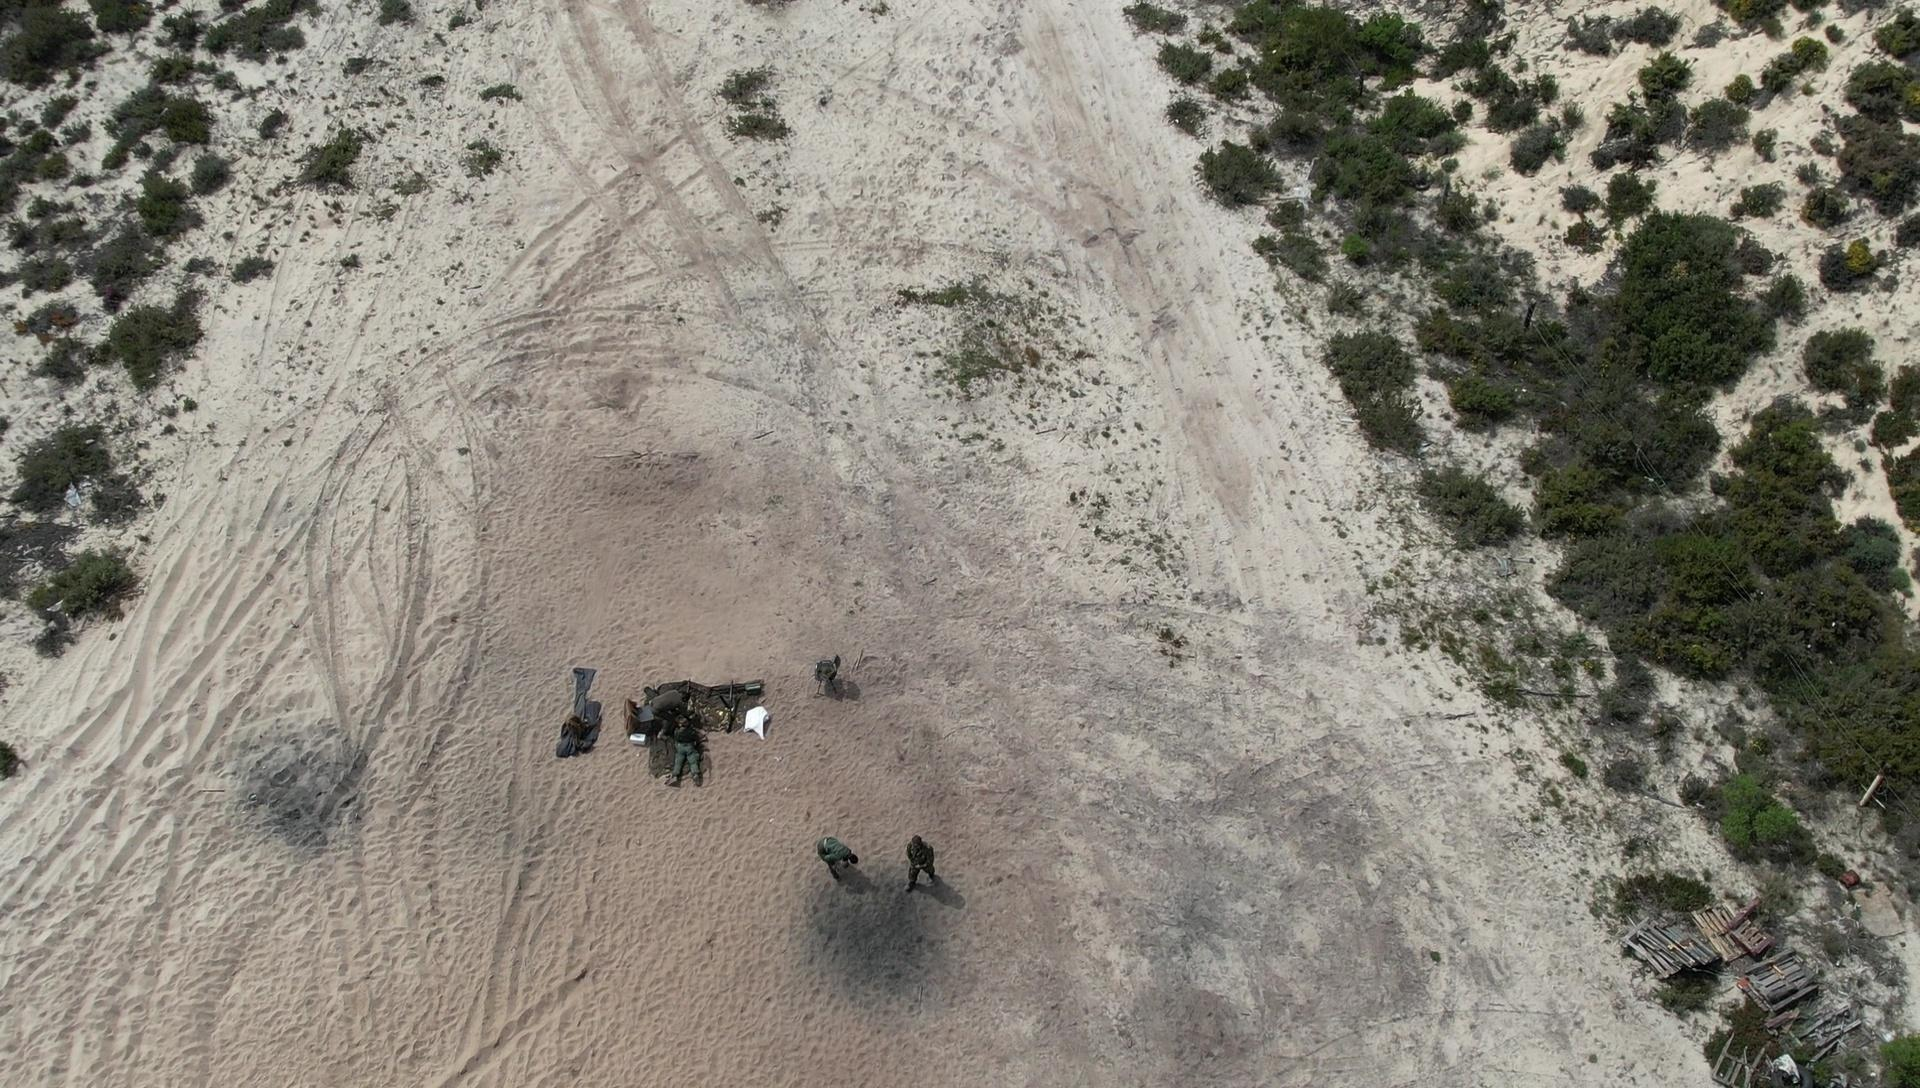Soldier: (659, 717, 721, 801), (804, 828, 872, 897), (898, 824, 949, 902), (646, 684, 700, 725)
